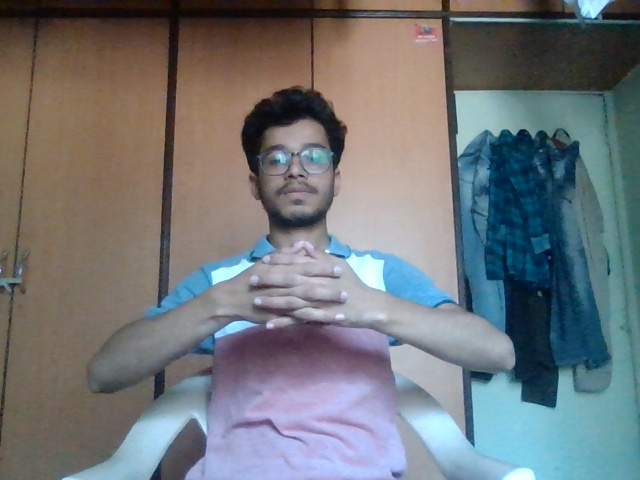good: (237, 238, 370, 350)
